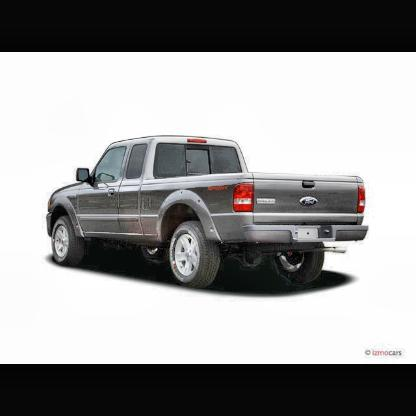Ford Ranger SuperCab 2011: (46, 134, 373, 288)
